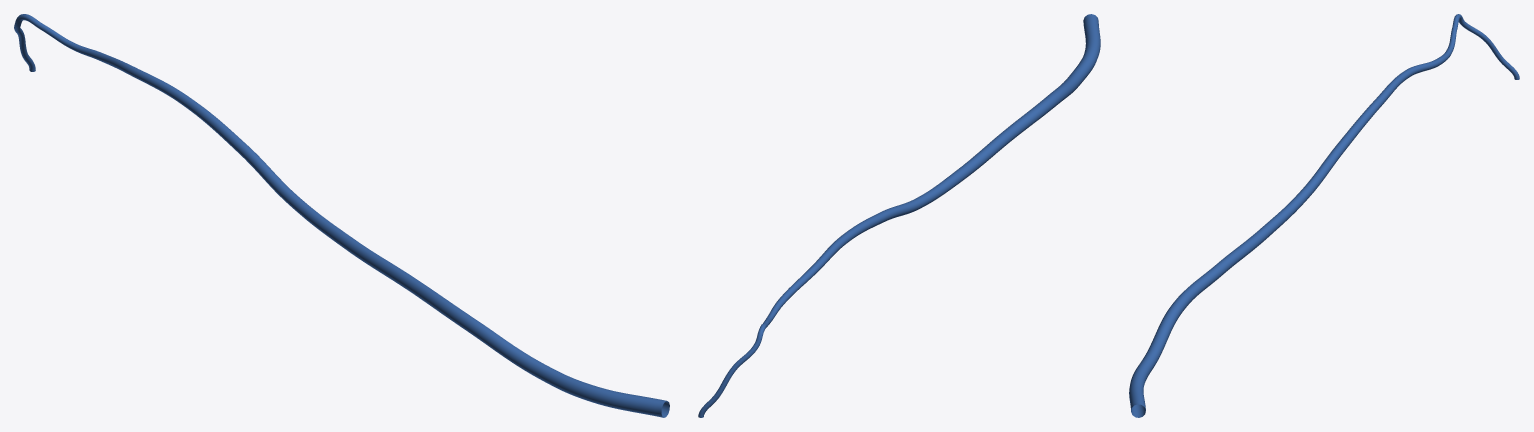
The picture shows the model from 3 angles, left to right: view 1: azimuth 30°, elevation 25°; view 2: azimuth 150°, elevation 25°; view 3: azimuth 330°, elevation 25°; orthographic projection. The views are drawn at different scales.
Parts seen in each view (by area): view 1: 左侧胫后静脉; view 2: 左侧胫后静脉; view 3: 左侧胫后静脉.
Boxes of the visible parts, box(x1,y1,x2,y2) form: 左侧胫后静脉: box(14, 14, 669, 417); 左侧胫后静脉: box(698, 14, 1100, 417); 左侧胫后静脉: box(1129, 14, 1519, 417).
Size of the model in its own units: 0.0781 by 0.0475 by 0.5032.
